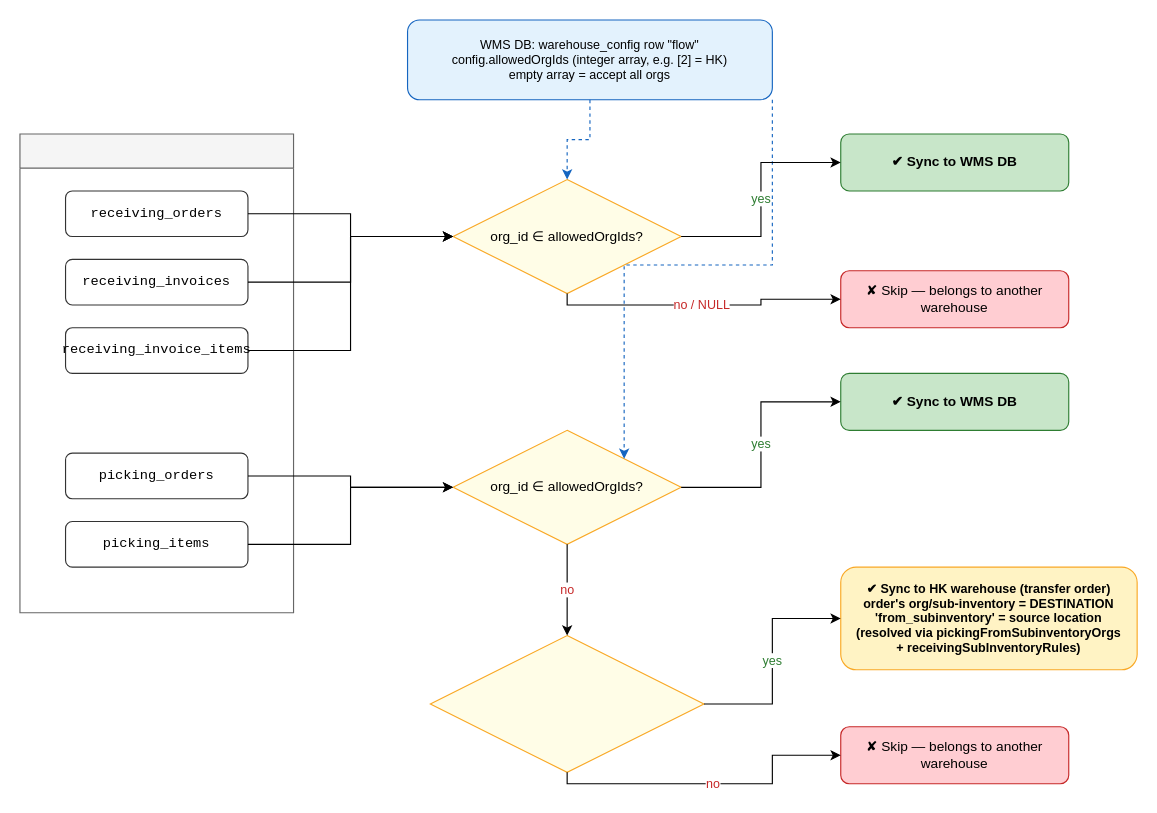
Image size: 1157x813. Some labels were removed from this diagram. Here are the shapes that lost their labels. From the top down, the box of each, then its label:
(19, 133, 294, 613): Upstream source system
(429, 634, 704, 772): picking_items.additional_data has key "from_subinventory"?
